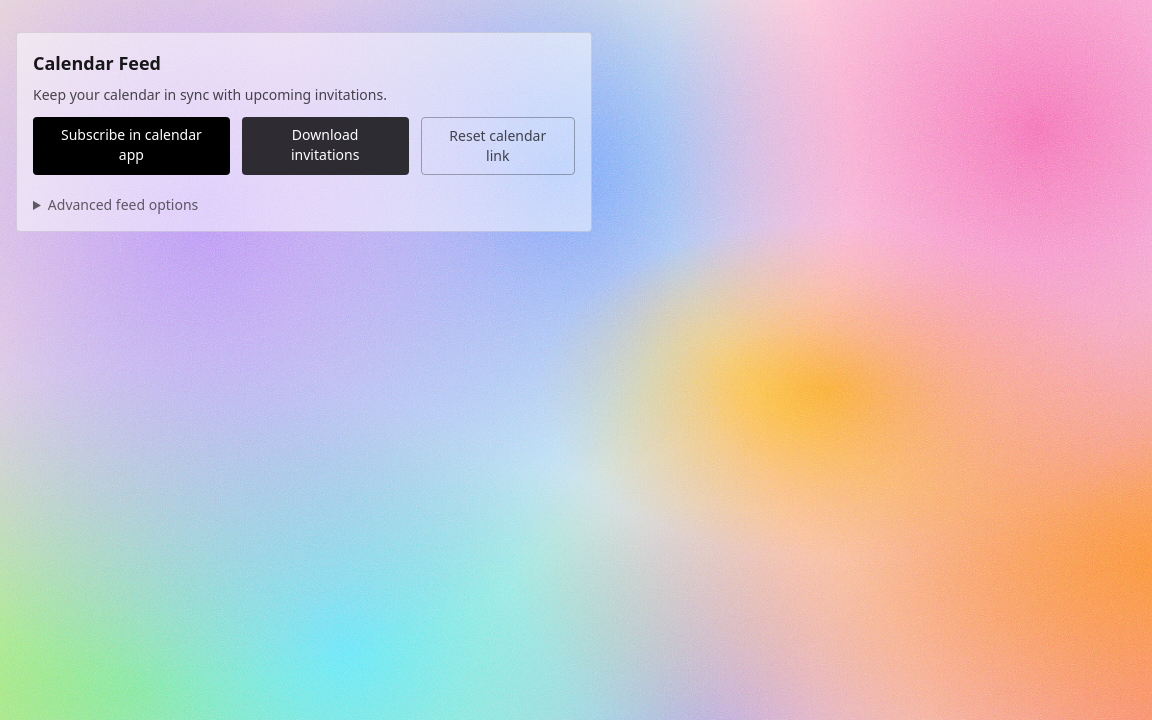
Test: CalendarFeedControls › copies the full calendar feed URL
Click the heading "Advanced feed options" at (123, 204), box left=48, top=195, right=198, bottom=214
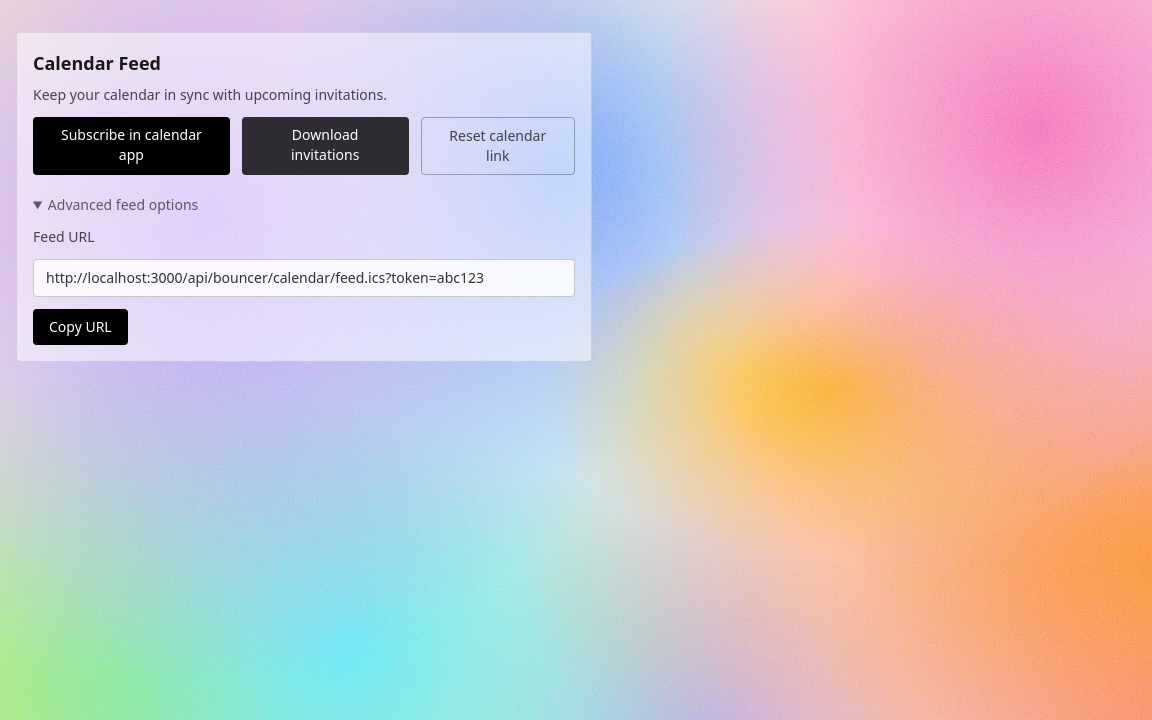
Click the button "Copy URL" at (80, 327), box left=33, top=309, right=128, bottom=345
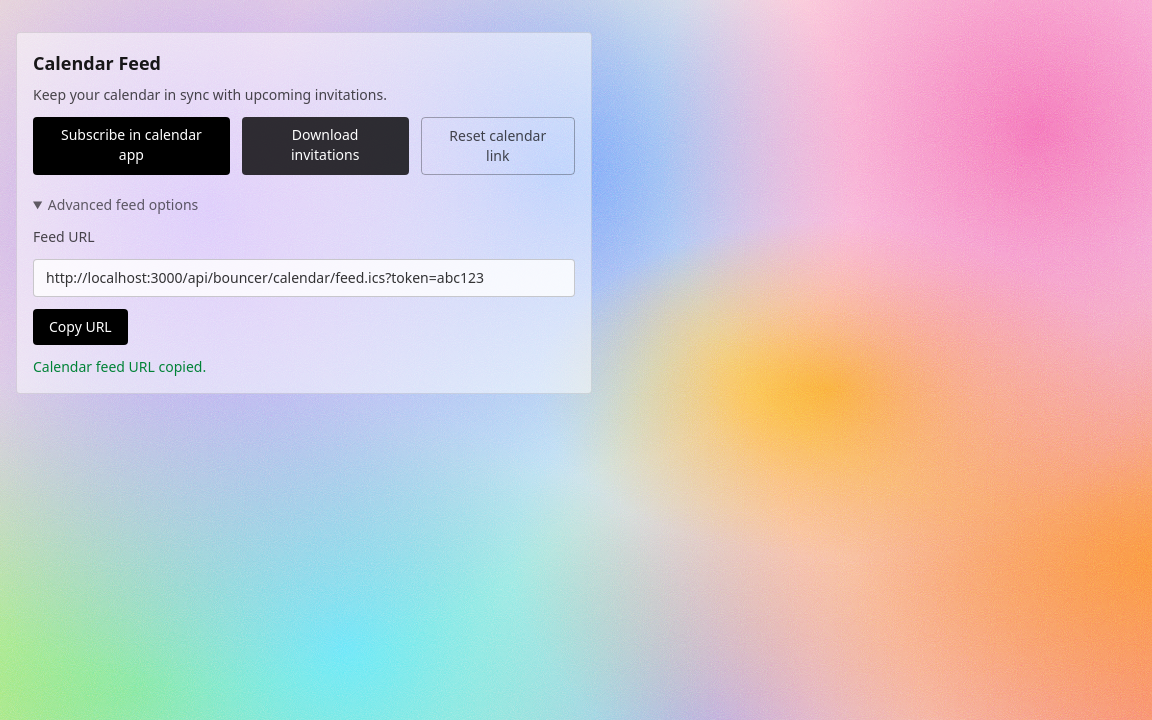
Now the text "Calendar feed URL copied." is shown, box left=33, top=357, right=206, bottom=376
